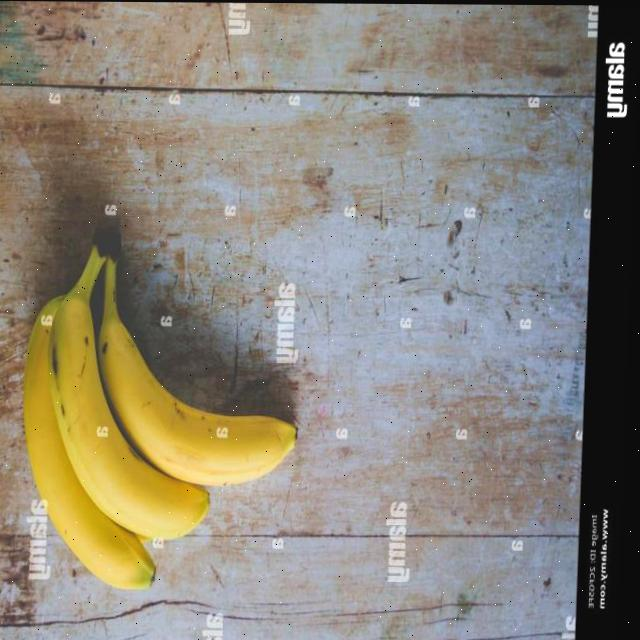banana: (7, 211, 311, 604)
